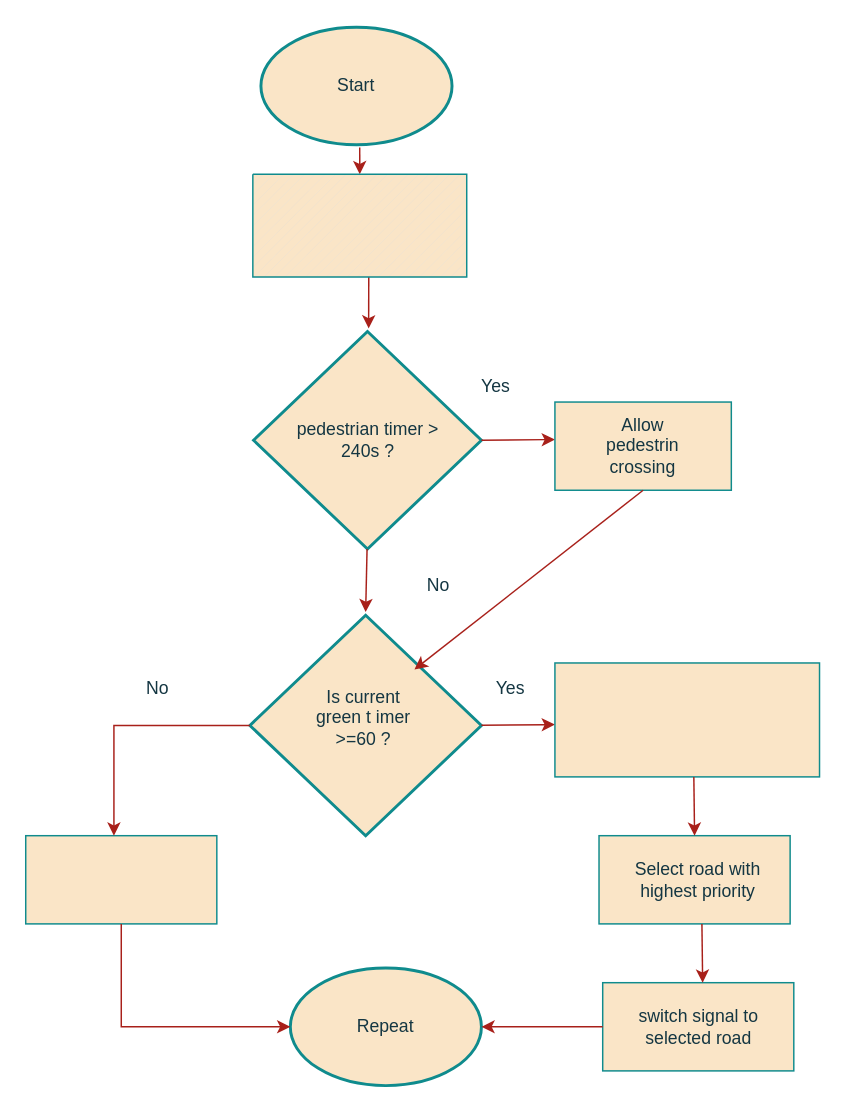
Image size: 845x1111. Some labels were removed from this diagram. The shapes that lost their labels are listed below. From the top down, each one's box as (x1, y1, x2, y2) in pixels, then its label:
(251, 173, 467, 277): Sense traffic density and detect emergency vehicle
(553, 662, 820, 777): Calculate priority of each road. priority = vehicle_count+emergency+age
(24, 834, 217, 924): Continue green signal to current road
